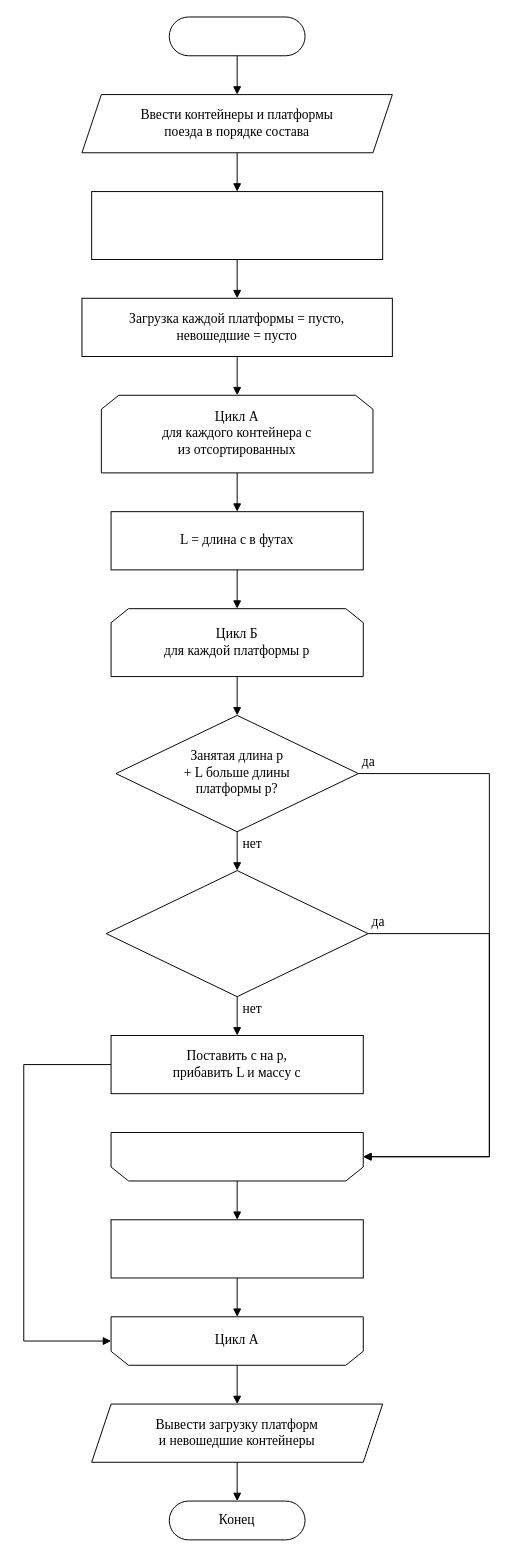
Some shapes in this 514 by 1557 pixel diagram are drawn without their labels. The centre of each missing label's shape, as x and y in pixels:
Добавить c в невошедшие: the point at 236,1248
Масса на p + масса c больше грузоподъемности p?: the point at 236,933
Начало: the point at 236,36
Отсортировать контейнеры по станции назначения и убыванию массы: the point at 237,225
Цикл Б: the point at 236,1156
